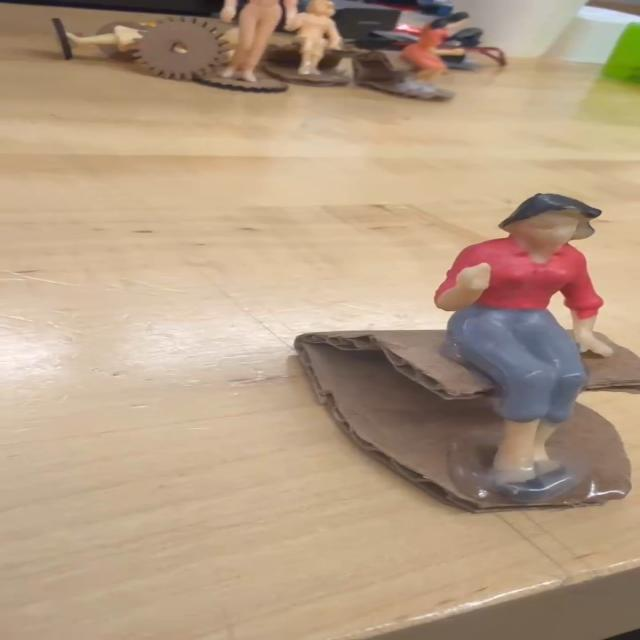Authorized: (298, 185, 640, 562)
